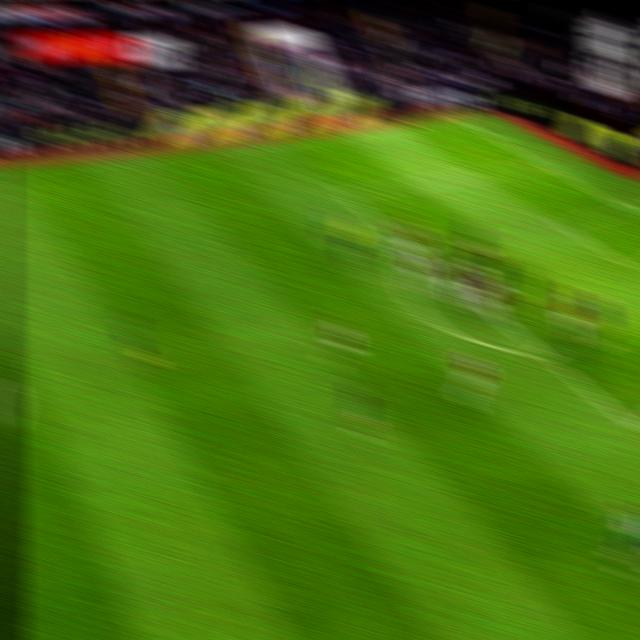bigarea_top_inner: (330, 180, 357, 206)
bigarea_top_outter: (526, 153, 553, 173)
bottom_arc_area_intersection: (531, 342, 559, 367)
corner: (440, 109, 468, 124)
smallarea_top_inner: (544, 211, 573, 235)
smallarea_top_outter: (615, 198, 640, 220)
